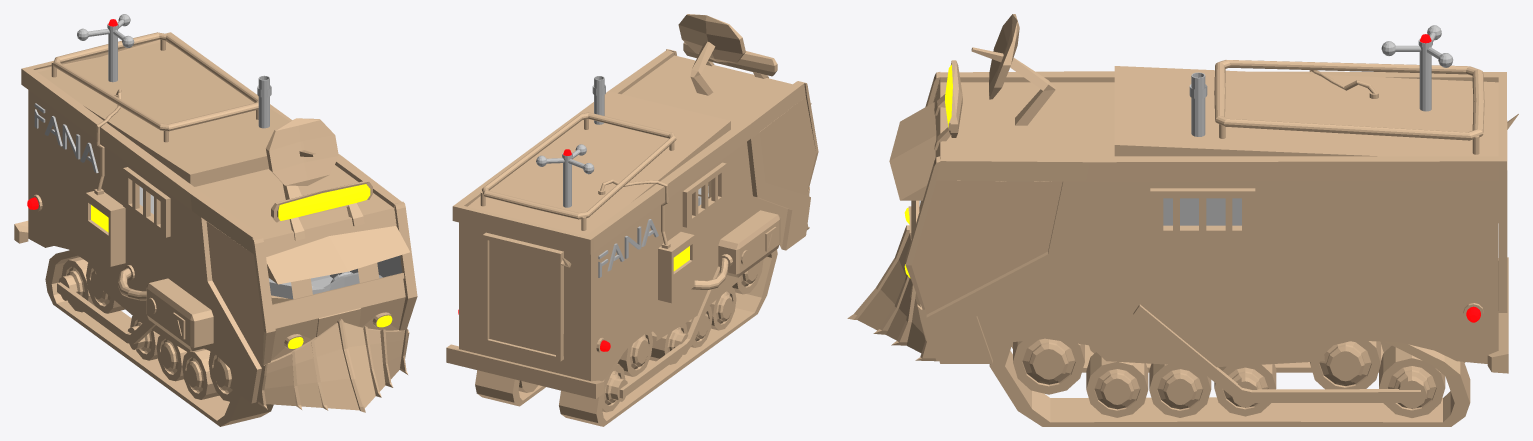
File: FANACRUISER.fbx
3 renders of one model, left to right at view 1: azimuth 30°, elevation 25°; view 2: azimuth 150°, elevation 25°; view 3: azimuth 270°, elevation 25°, orthographic. The views are drawn at different scales.
Parts seen in each view (by area): view 1: ExteriorBox, Wheels, BoxNStuff, InteriorBox, Anemometer, FanaText, Exhaust; view 2: ExteriorBox, Wheels, Door, BoxNStuff, Anemometer, FanaText, Exhaust; view 3: ExteriorBox, Wheels, Anemometer, InteriorBox, Door, Exhaust.
Boxes of the visible parts, x1=… form: ExteriorBox: x1=14, y1=32, x2=417, y2=412; Wheels: x1=45, y1=250, x2=273, y2=426; BoxNStuff: x1=85, y1=89, x2=213, y2=351; InteriorBox: x1=139, y1=186, x2=402, y2=304; Anemometer: x1=77, y1=14, x2=134, y2=82; FanaText: x1=34, y1=103, x2=98, y2=173; Exhaust: x1=257, y1=75, x2=271, y2=128; ExteriorBox: x1=446, y1=14, x2=818, y2=398; Wheels: x1=475, y1=249, x2=777, y2=426; Door: x1=482, y1=232, x2=571, y2=361; BoxNStuff: x1=598, y1=179, x2=780, y2=303; Anemometer: x1=536, y1=144, x2=594, y2=207; FanaText: x1=598, y1=219, x2=658, y2=277; Exhaust: x1=592, y1=76, x2=605, y2=124; ExteriorBox: x1=847, y1=14, x2=1508, y2=373; Wheels: x1=989, y1=304, x2=1470, y2=426; Anemometer: x1=1381, y1=25, x2=1453, y2=111; InteriorBox: x1=919, y1=198, x2=1241, y2=225; Door: x1=1498, y1=114, x2=1518, y2=312; Exhaust: x1=1189, y1=72, x2=1207, y2=136.
Size of the model in its own units: 417 by 673 by 1116.
